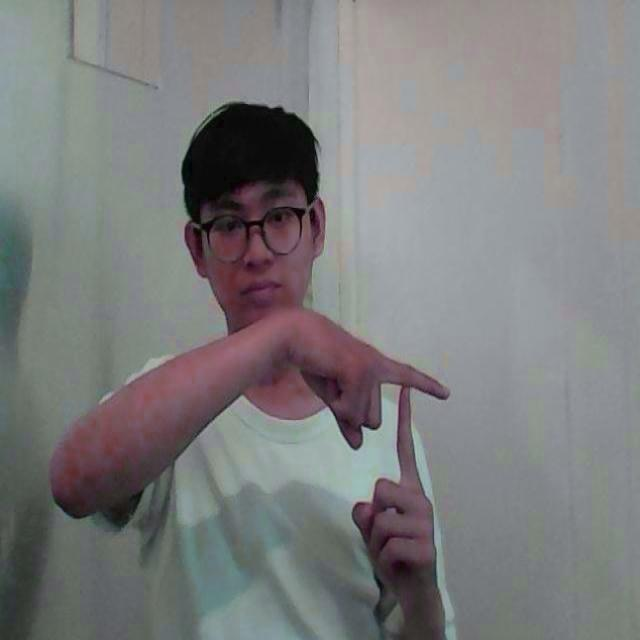T: (325, 330, 455, 575)
